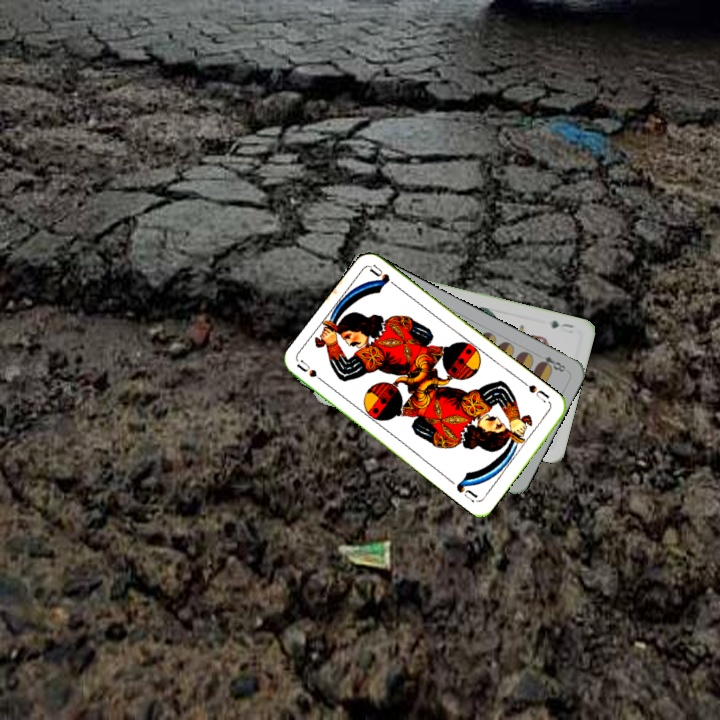E8: (534, 352, 568, 375)
GU: (547, 316, 576, 331)
SU: (293, 356, 330, 388), (519, 377, 552, 405)
